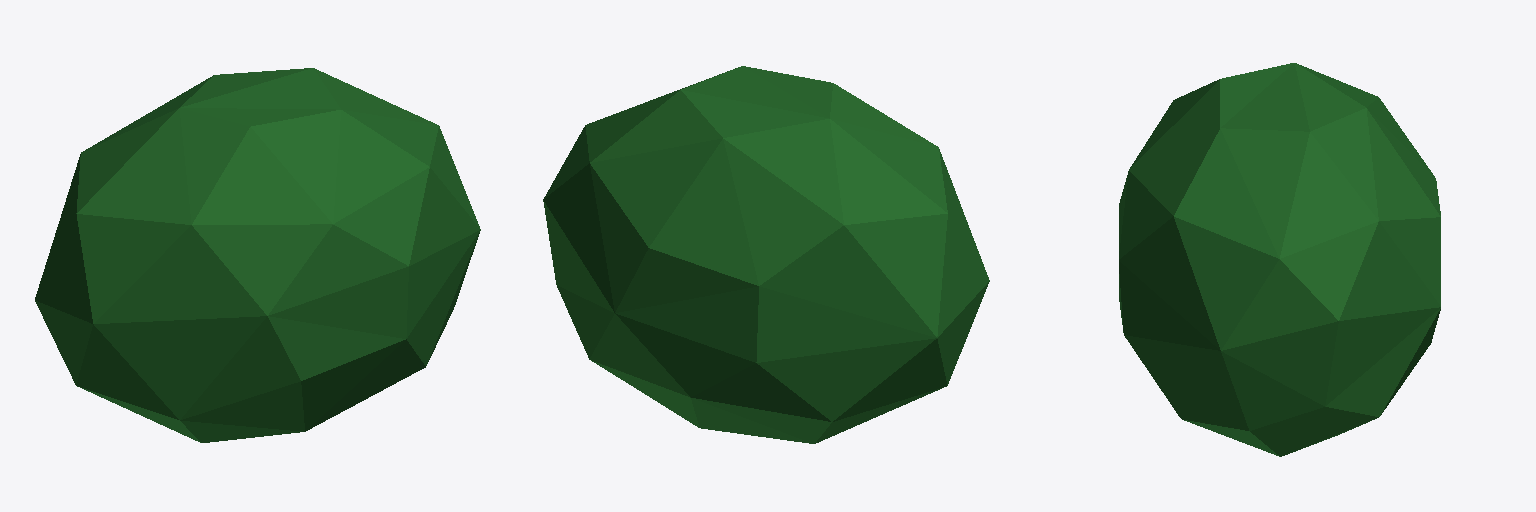
Rendered from shrub_round__19_.obj.
The picture shows the model from 3 angles: view 1: azimuth 30°, elevation 25°; view 2: azimuth 150°, elevation 25°; view 3: azimuth 270°, elevation 25°; orthographic projection.
Visible parts, largest first — view 1: shrub_round__19__Scene.015; view 2: shrub_round__19__Scene.015; view 3: shrub_round__19__Scene.015.
Boxes of the visible parts, x1=… form: shrub_round__19__Scene.015: x1=35, y1=68, x2=480, y2=442; shrub_round__19__Scene.015: x1=543, y1=66, x2=989, y2=443; shrub_round__19__Scene.015: x1=1119, y1=63, x2=1440, y2=456.
Size of the model in its own units: 1.32 by 1.04 by 0.9481.